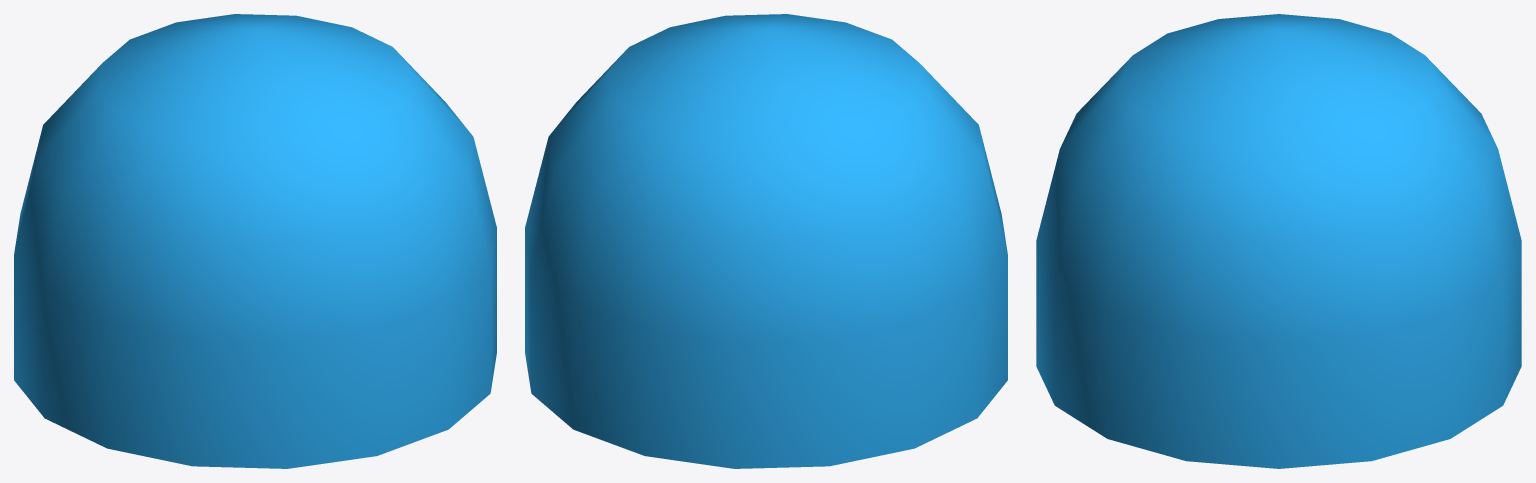
Rendered from Arm_Sleeve_S_02_R.fbx.
The picture shows the model from 3 angles, left to right: view 1: azimuth 30°, elevation 25°; view 2: azimuth 150°, elevation 25°; view 3: azimuth 270°, elevation 25°; orthographic projection.
Parts seen in each view (by area): view 1: Arm_Sleeve_S_02_R; view 2: Arm_Sleeve_S_02_R; view 3: Arm_Sleeve_S_02_R.
Part boxes in pixels (bbox=[...]): Arm_Sleeve_S_02_R: bbox=[14, 14, 496, 468]; Arm_Sleeve_S_02_R: bbox=[525, 14, 1007, 468]; Arm_Sleeve_S_02_R: bbox=[1036, 14, 1521, 468].
Bounding box in the file's own units: 48.18 × 36.77 × 48.18.
